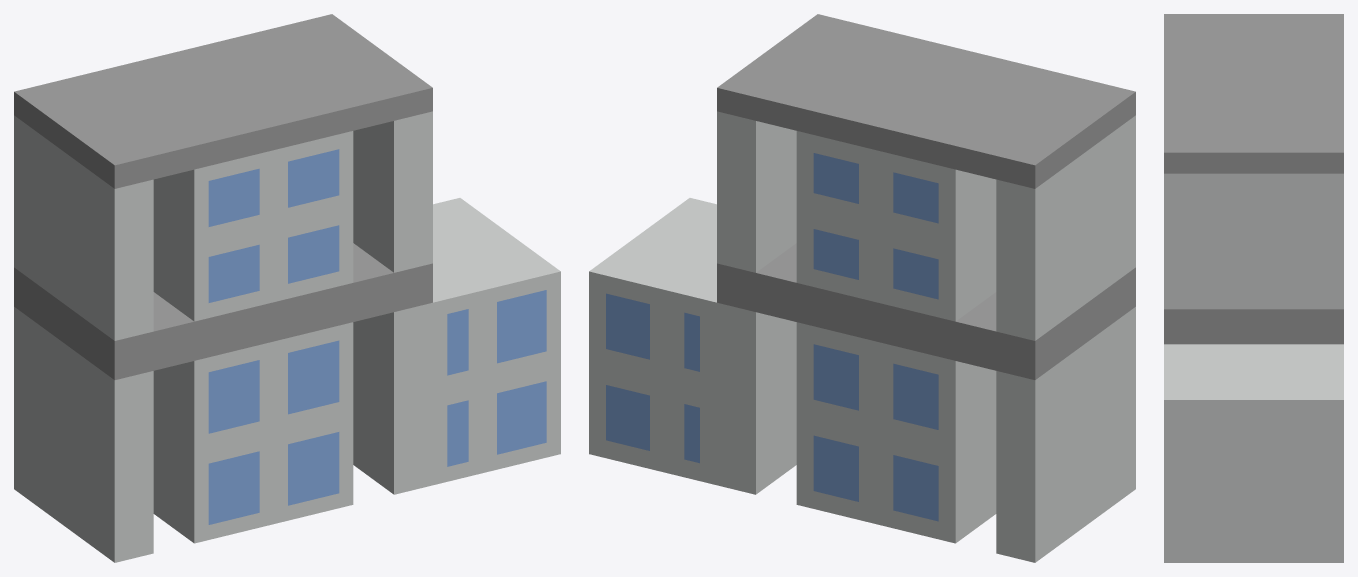
The model's file is 식.fbx.
3 renders of one model, left to right at view 1: azimuth 30°, elevation 25°; view 2: azimuth 150°, elevation 25°; view 3: azimuth 270°, elevation 25°, orthographic. The views are drawn at different scales.
Parts seen in each view (by area): view 1: Cube; view 2: Cube; view 3: Cube.
Part boxes in pixels (<box>): Cube: <box>14,14,560,562</box>; Cube: <box>589,14,1135,562</box>; Cube: <box>1164,14,1343,562</box>.
Size of the model in its own units: 511 by 435 by 200.
